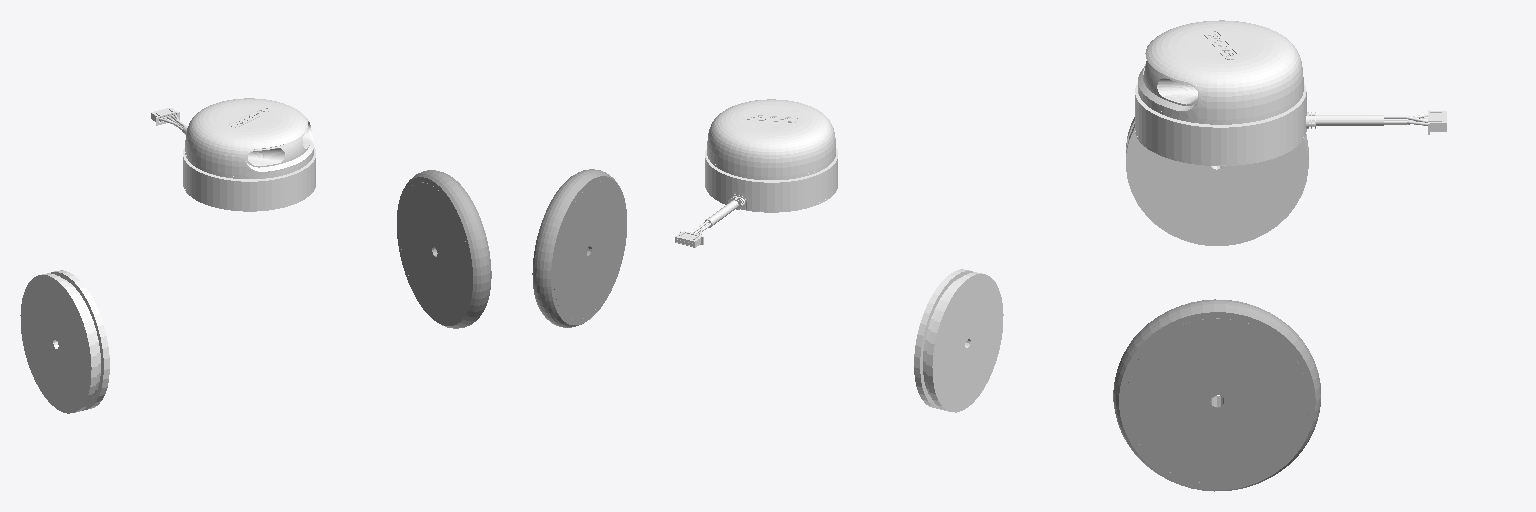
The robot description file, URDF, robot "wagon_final":
<?xml version="1.0" encoding="utf-8"?>
<!-- This URDF was automatically created by SolidWorks to URDF Exporter! Originally created by [author] ([email redacted]) 
     Commit Version: 1.6.0-4-g7f85cfe  Build Version: 1.6.7995.38578
     For more information, please see http://wiki.ros.org/sw_urdf_exporter -->
<robot
  name="wagon_final">
  <link
    name="base_link">
    <inertial>
      <origin
        xyz="-0.00071232 -0.011132 0.011557"
        rpy="0 0 0" />
      <mass
        value="1.941" />
      <inertia
        ixx="0.0031002"
        ixy="1.8319E-07"
        ixz="-1.261E-07"
        iyy="0.0068642"
        iyz="-0.00014395"
        izz="0.0042262" />
    </inertial>
    <visual>
      <origin
        xyz="0 0 0"
        rpy="0 0 0" />
      <geometry>
        <mesh
          filename="package://wagon_final/meshes/base_link.STL" />
      </geometry>
      <material
        name="">
        <color
          rgba="0.89804 0.91765 0.92941 1" />
      </material>
    </visual>
    <collision>
      <origin
        xyz="0 0 0"
        rpy="0 0 0" />
      <geometry>
        <mesh
          filename="package://wagon_final/meshes/base_link.STL" />
      </geometry>
    </collision>
  </link>
  <link
    name="LeftWheel">
    <inertial>
      <origin
        xyz="0.0595277257682346 0.0660060262979564 0.0944826896986568"
        rpy="0 0 0" />
      <mass
        value="0.0749982833810974" />
      <inertia
        ixx="3.85620601121594E-05"
        ixy="-3.2351260264921E-09"
        ixz="8.85449535517429E-12"
        iyy="7.53748500718055E-05"
        iyz="3.68149875309628E-09"
        izz="3.85619298894742E-05" />
    </inertial>
    <visual>
      <origin
        xyz="0 0 0"
        rpy="0 0 0" />
      <geometry>
        <mesh
          filename="package://wagon_final/meshes/LeftWheel.STL" />
      </geometry>
      <material
        name="">
        <color
          rgba="0.752941176470588 0.752941176470588 0.752941176470588 1" />
      </material>
    </visual>
    <collision>
      <origin
        xyz="0 0 0"
        rpy="0 0 0" />
      <geometry>
        <mesh
          filename="package://wagon_final/meshes/LeftWheel.STL" />
      </geometry>
    </collision>
  </link>
  <joint
    name="LeftWheel"
    type="continuous">
    <origin
      xyz="0.18852 -0.0055491 0.097513"
      rpy="3.1416 0.51563 -1.5708" />
    <parent
      link="base_link" />
    <child
      link="LeftWheel" />
    <axis
      xyz="0 0 0" />
  </joint>
  <link
    name="RightWheel">
    <inertial>
      <origin
        xyz="0.0400132489874368 0.0059999998236762 0.0399666041415767"
        rpy="0 0 0" />
      <mass
        value="0.0570828645750587" />
      <inertia
        ixx="2.26881111326565E-05"
        ixy="-3.23512602648937E-09"
        ixz="8.85449535453901E-12"
        iyy="4.39441762330487E-05"
        iyz="3.68149875309472E-09"
        izz="2.26879809099714E-05" />
    </inertial>
    <visual>
      <origin
        xyz="0 0 0"
        rpy="0 0 0" />
      <geometry>
        <mesh
          filename="package://wagon_final/meshes/RightWheel.STL" />
      </geometry>
      <material
        name="">
        <color
          rgba="1 1 1 1" />
      </material>
    </visual>
    <collision>
      <origin
        xyz="0 0 0"
        rpy="0 0 0" />
      <geometry>
        <mesh
          filename="package://wagon_final/meshes/RightWheel.STL" />
      </geometry>
    </collision>
  </link>
  <joint
    name="RightWheel"
    type="continuous">
    <origin
      xyz="-0.11749 0.03225 0.022683"
      rpy="3.1416 -0.078139 -1.5708" />
    <parent
      link="base_link" />
    <child
      link="RightWheel" />
    <axis
      xyz="0 0 0" />
  </joint>
  <link
    name="LiDAR">
    <inertial>
      <origin
        xyz="0 0 0"
        rpy="0 0 0" />
      <mass
        value="0" />
      <inertia
        ixx="0"
        ixy="0"
        ixz="0"
        iyy="0"
        iyz="0"
        izz="0" />
    </inertial>
    <visual>
      <origin
        xyz="0 0 0"
        rpy="0 0 0" />
      <geometry>
        <mesh
          filename="package://wagon_final/meshes/LiDAR.STL" />
      </geometry>
      <material
        name="">
        <color
          rgba="1 1 1 1" />
      </material>
    </visual>
    <collision>
      <origin
        xyz="0 0 0"
        rpy="0 0 0" />
      <geometry>
        <mesh
          filename="package://wagon_final/meshes/LiDAR.STL" />
      </geometry>
    </collision>
  </link>
  <joint
    name="LiDAR"
    type="fixed">
    <origin
      xyz="-0.077875 -0.0032017 0.047319"
      rpy="1.5708 0 1.5708" />
    <parent
      link="base_link" />
    <child
      link="LiDAR" />
    <axis
      xyz="0 0 0" />
  </joint>
</robot>

--- Facts derived from the render (not from the file) ---
Views: 3 orthographic renders of the robot side by side, from view 1: azimuth 30°, elevation 25°; view 2: azimuth 150°, elevation 25°; view 3: azimuth 270°, elevation 25°.
Robot: wagon_final — 4 links, 3 joints (2 continuous, 1 fixed); root link base_link; default pose: every joint at zero.
Visible links, largest first — view 1: LiDAR, LeftWheel, RightWheel; view 2: LiDAR, LeftWheel, RightWheel; view 3: LeftWheel, LiDAR, RightWheel.
Boxes of the visible links, <box> form: LiDAR: <box>151,98,315,211</box>; LeftWheel: <box>397,170,491,328</box>; RightWheel: <box>20,270,109,413</box>; LiDAR: <box>675,99,837,247</box>; LeftWheel: <box>532,169,626,327</box>; RightWheel: <box>914,269,1003,412</box>; LeftWheel: <box>1113,299,1320,491</box>; LiDAR: <box>1135,20,1446,165</box>; RightWheel: <box>1126,117,1308,245</box>.
Bounding box of the posed robot: 0.258 × 0.1456 × 0.1558 m (x, y, z).
Meshes: 4 distinct files referenced, 3 mesh visuals loaded (3 binary STL); not drawn: 1 (reference not matched to a file when rendering).